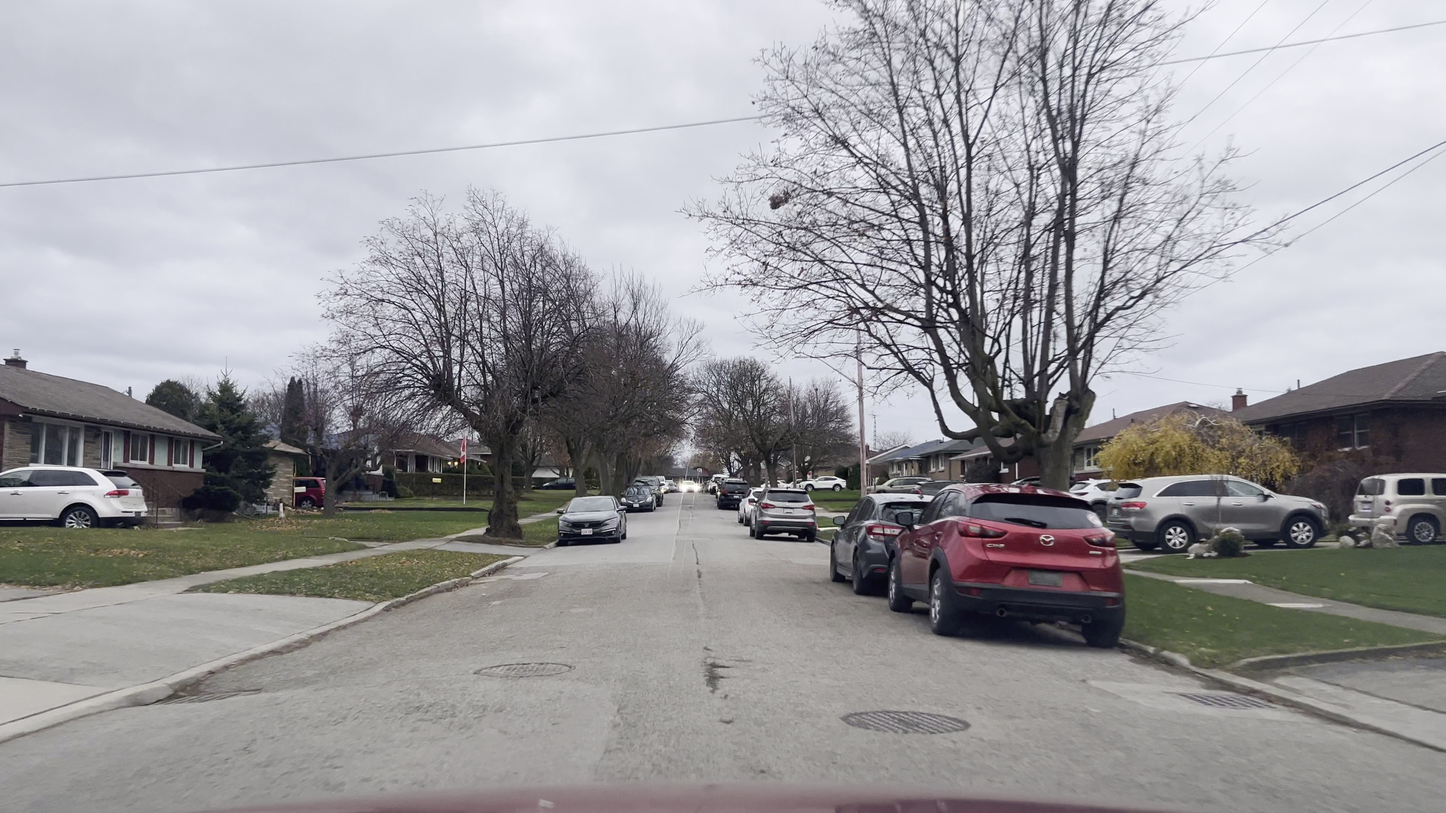cracks: (690, 651, 729, 701)
pothole: (145, 682, 256, 711)
